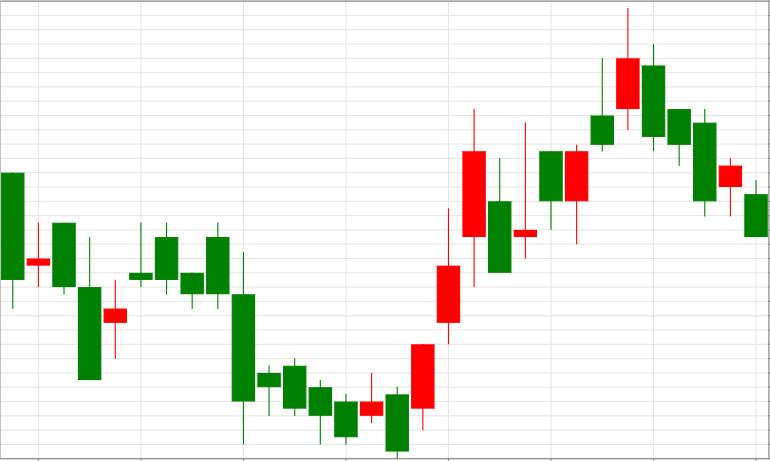three_white_soldiers_rise: (156, 109, 486, 458)
